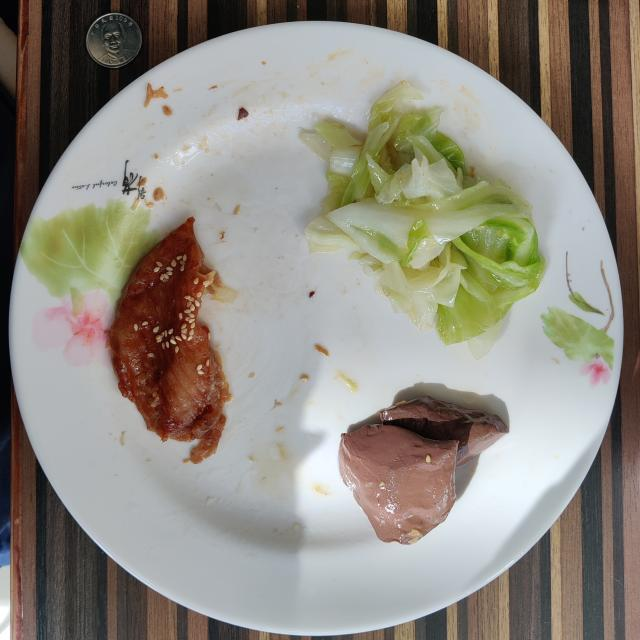Kabayaki sea bream fillet: (109, 218, 230, 464)
cabbage: (300, 81, 545, 356)
coin: (86, 12, 141, 69)
pig blood curd: (339, 396, 509, 544)
